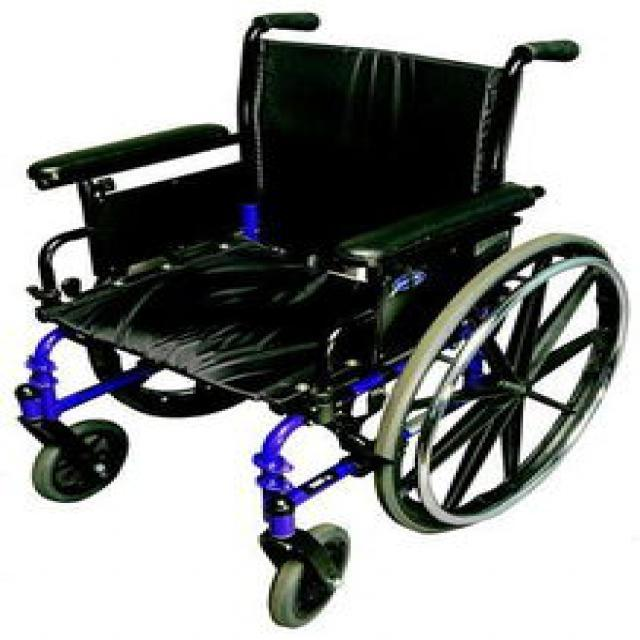wheelchair: (6, 9, 628, 628)
